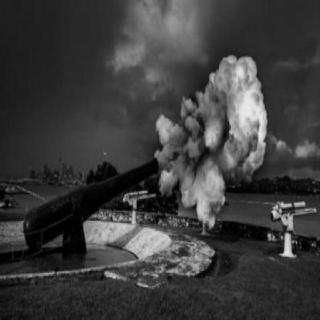Smoke: (162, 51, 269, 203)
